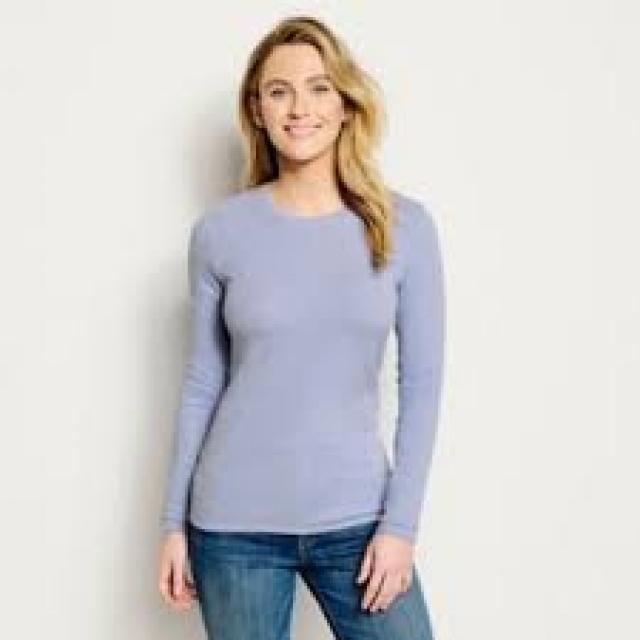plain: (167, 177, 449, 540)
